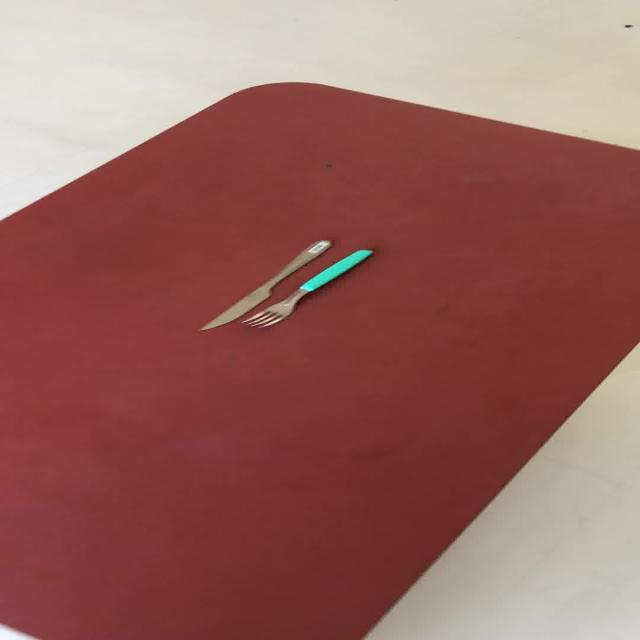fork: (197, 238, 332, 331), (240, 248, 373, 329)
knife fork: (197, 238, 332, 331), (240, 247, 373, 329)
